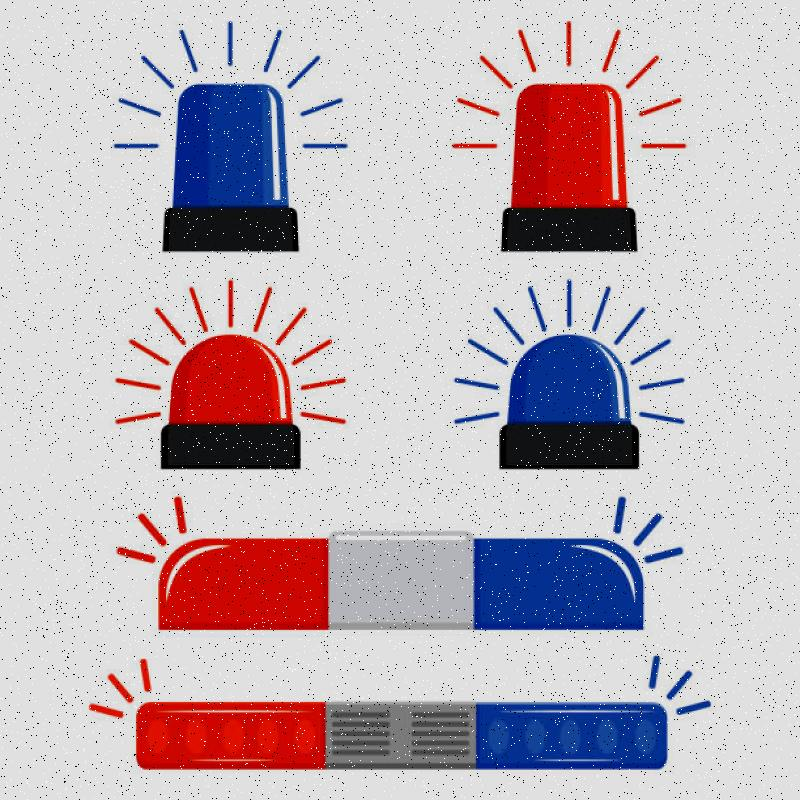AmbulanceSiren: (84, 512, 701, 653), (86, 668, 695, 784), (128, 273, 350, 496), (465, 280, 678, 484), (453, 64, 678, 257), (142, 36, 327, 267)
